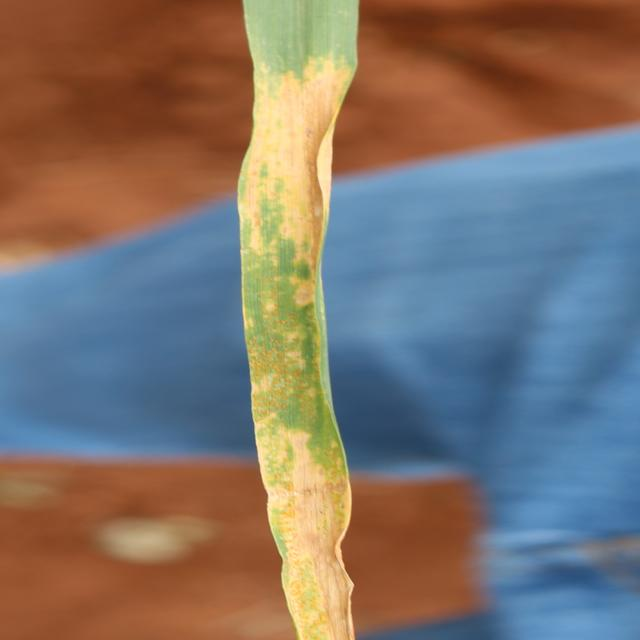Septoria: (266, 418, 350, 640), (258, 52, 341, 240)
